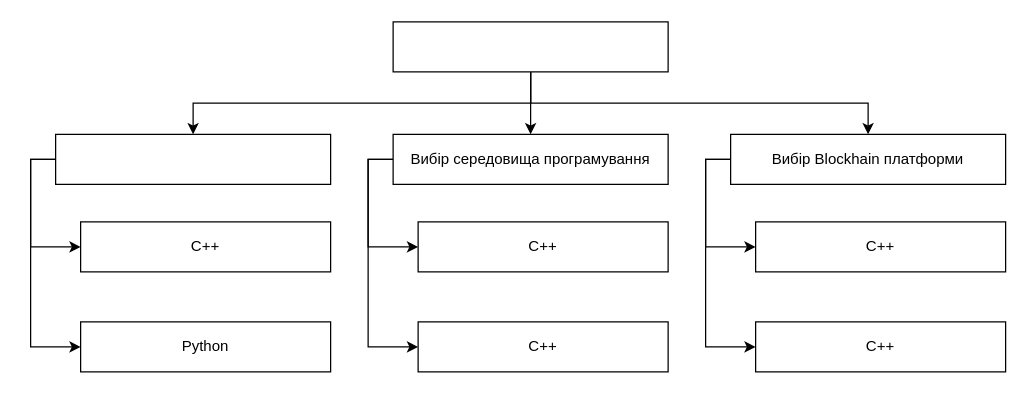
The diagram is 1028 pixels wide and 394 high, and some of its shapes have lost their labels. The box of each missing label's shape, as (x1, y1, x2, y2) in pixels:
Вибір мови програмування: (54, 133, 331, 184)
Система електронного голосування: (392, 21, 668, 72)
